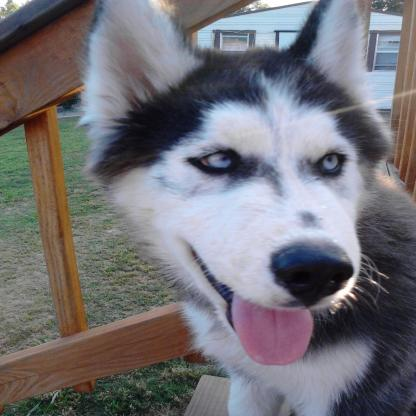husky: (69, 4, 416, 416)
